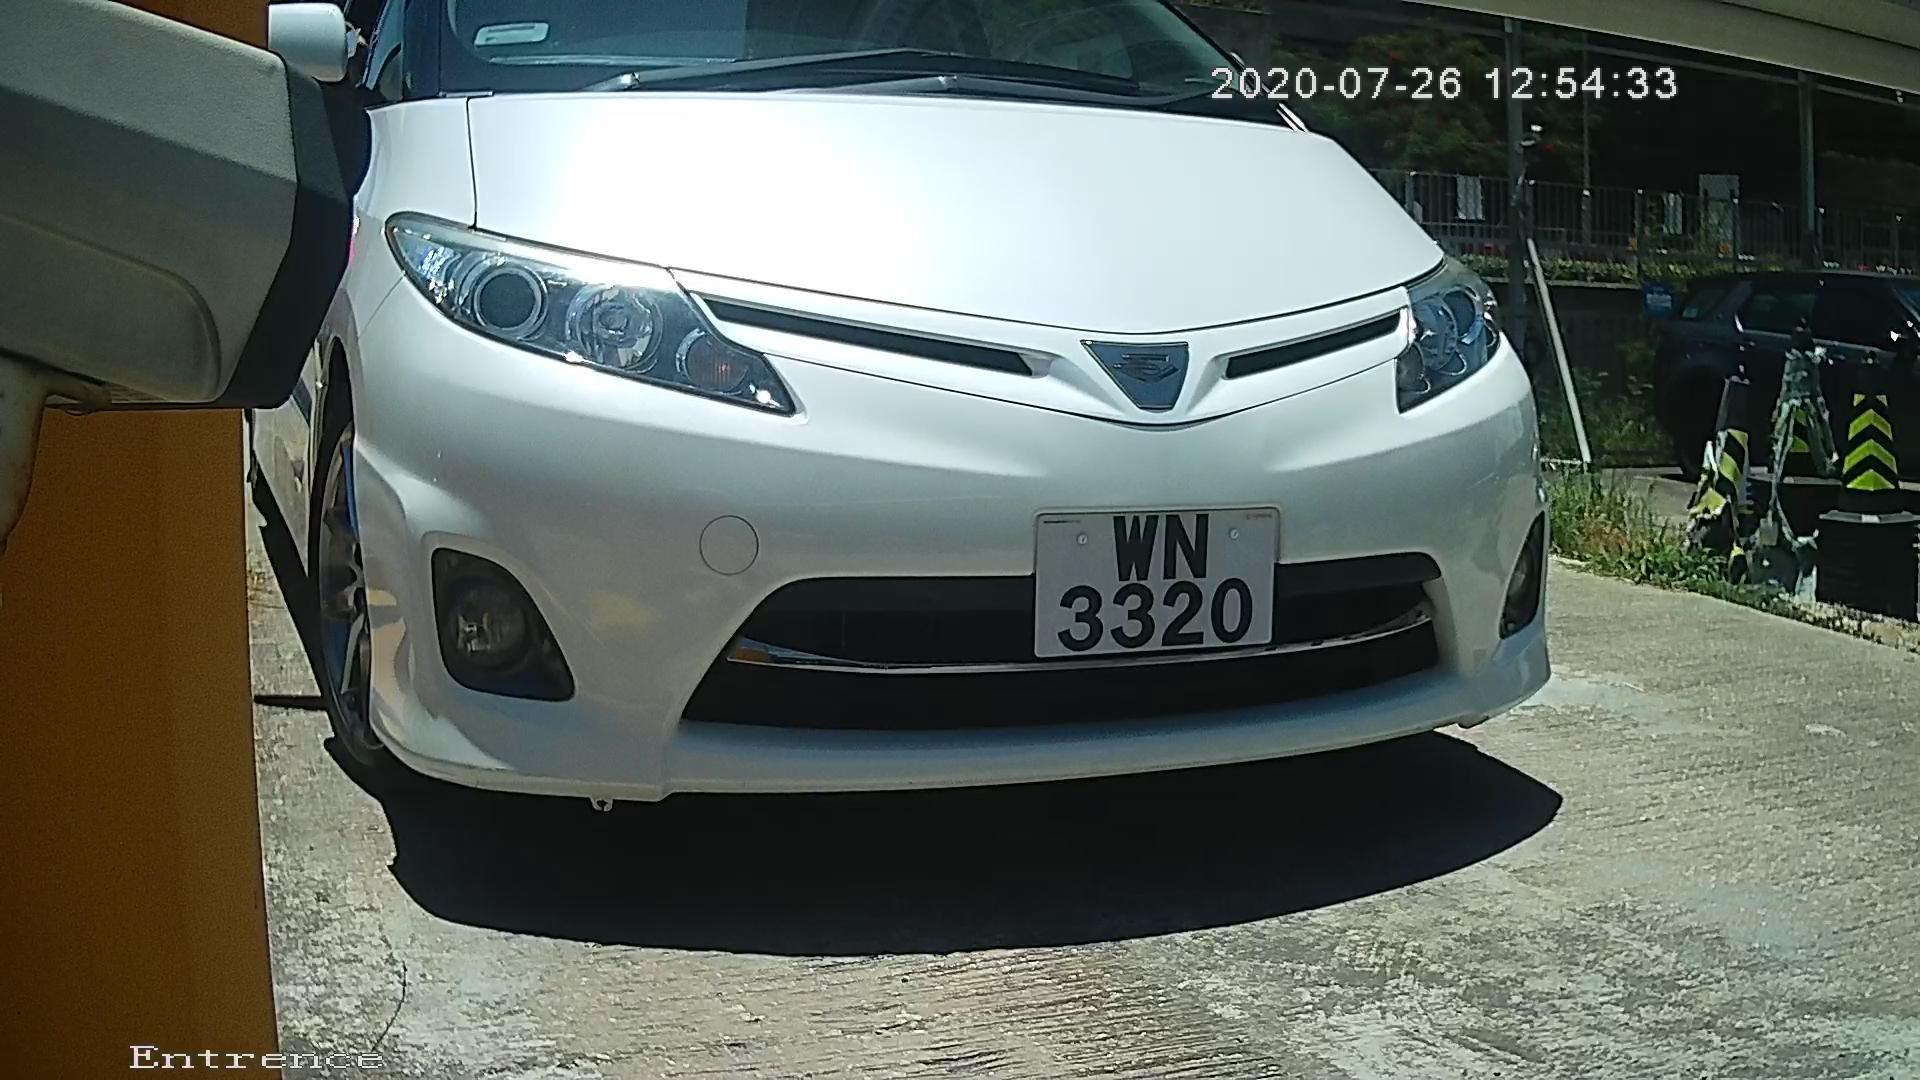privatecar: (241, 11, 1611, 942)
